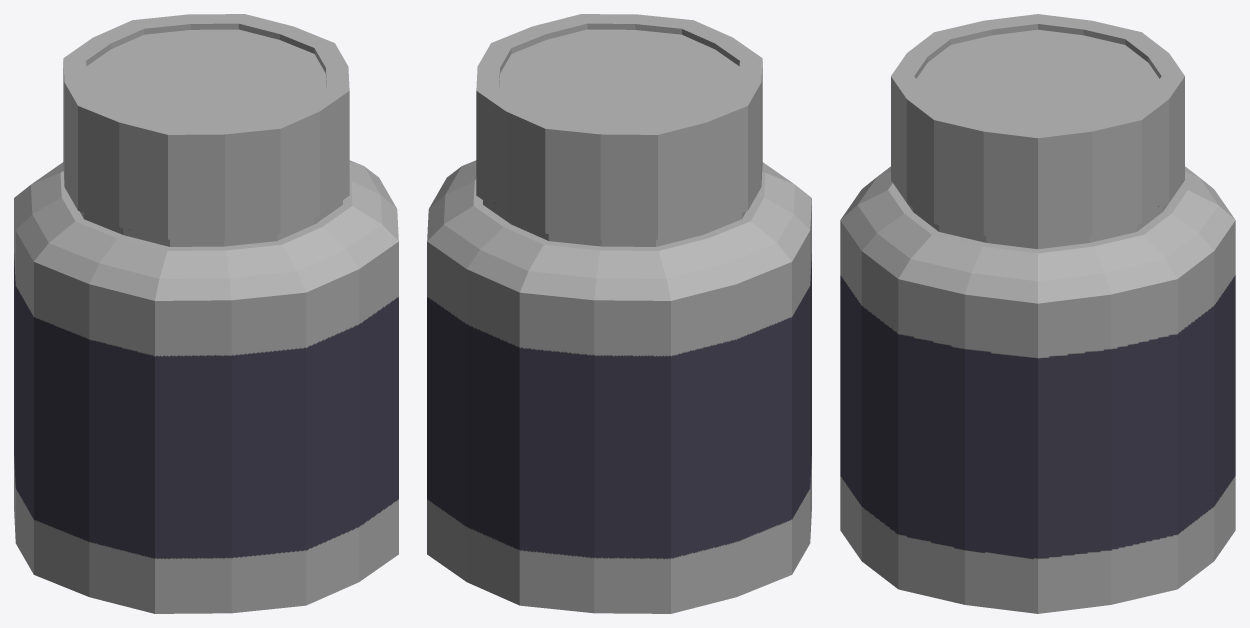
The model's file is Pills.fbx.
3 views of the same model, side by side, from view 1: azimuth 30°, elevation 25°; view 2: azimuth 150°, elevation 25°; view 3: azimuth 270°, elevation 25° (orthographic).
Visible parts, largest first — view 1: Pills; view 2: Pills; view 3: Pills.
Boxes of the visible parts, x1,y1,x2,y2 form: Pills: (14,14,398,613); Pills: (427,14,811,613); Pills: (840,14,1235,613).
Bounding box in the file's own units: 14.5 × 18.38 × 14.5.
Materials: 1 (1 with a texture image).
